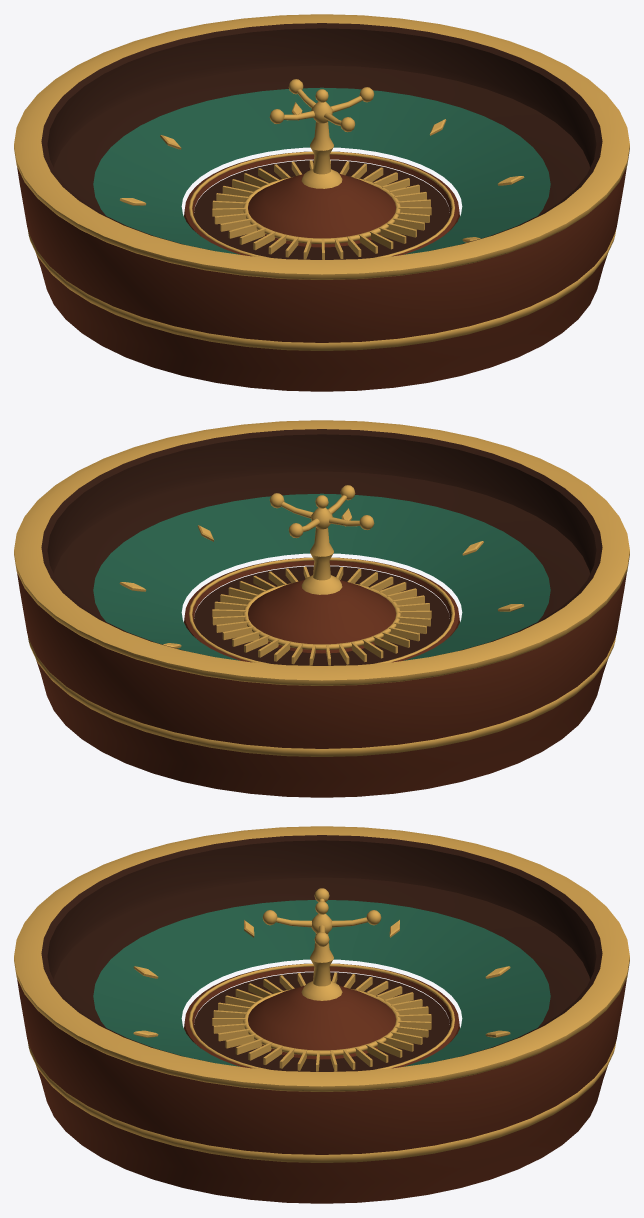
File: roulette_wheel.glb
The picture shows the model from 3 angles, top to bottom: view 1: azimuth 30°, elevation 25°; view 2: azimuth 150°, elevation 25°; view 3: azimuth 270°, elevation 25°; orthographic projection.
Parts seen in each view (by area): view 1: RouletteWheel, Rotor; view 2: RouletteWheel, Rotor; view 3: RouletteWheel, Rotor.
Boxes of the visible parts, <box> form: RouletteWheel: <box>14,14,629,391</box>; Rotor: <box>184,79,459,259</box>; RouletteWheel: <box>14,420,629,797</box>; Rotor: <box>184,485,459,665</box>; RouletteWheel: <box>14,826,629,1203</box>; Rotor: <box>184,888,459,1071</box>.
Size of the model in its own units: 4.04 by 1.38 by 4.04.
